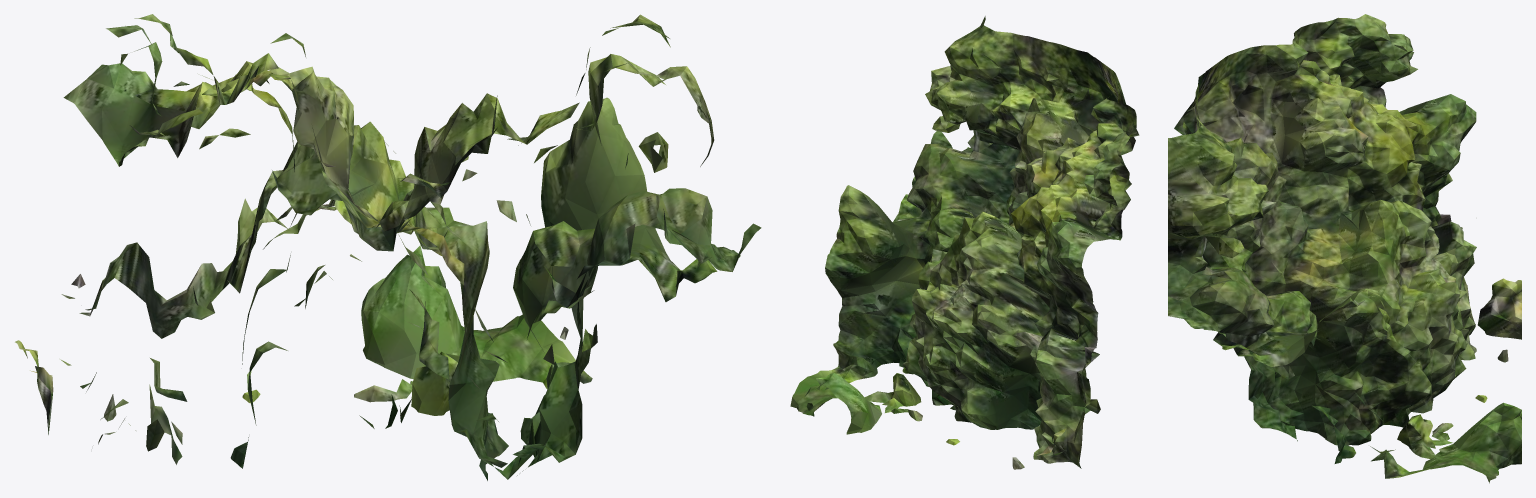
3 views of the same model, side by side, from view 1: azimuth 30°, elevation 25°; view 2: azimuth 150°, elevation 25°; view 3: azimuth 270°, elevation 25° (orthographic). The views are drawn at different scales.
Size of the model in its own units: 26.11 by 26.11 by 26.11.
Materials: 7 (7 with a texture image).
